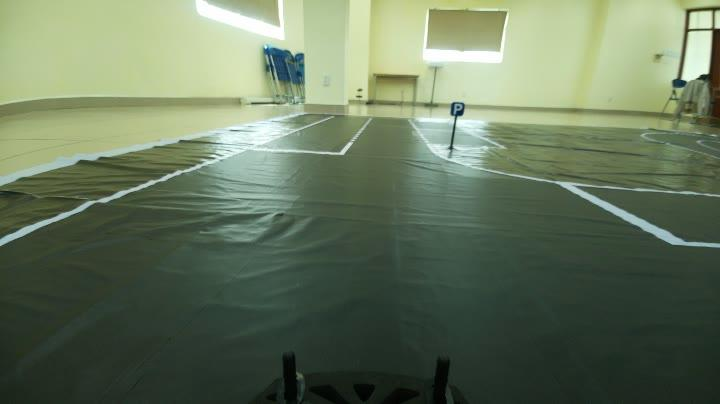parking: (446, 99, 467, 122)
